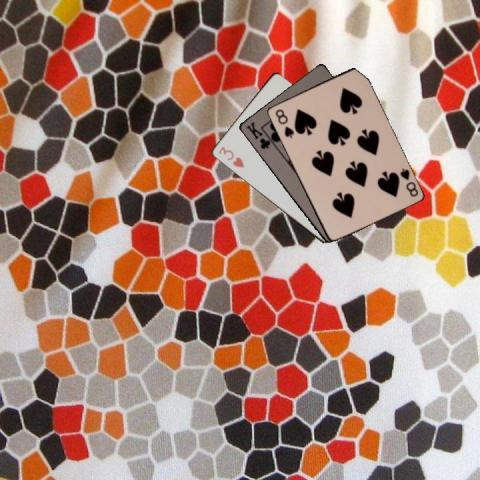3h: (216, 143, 246, 169)
8s: (272, 106, 295, 139), (397, 165, 419, 198)
Kc: (243, 118, 271, 150)
